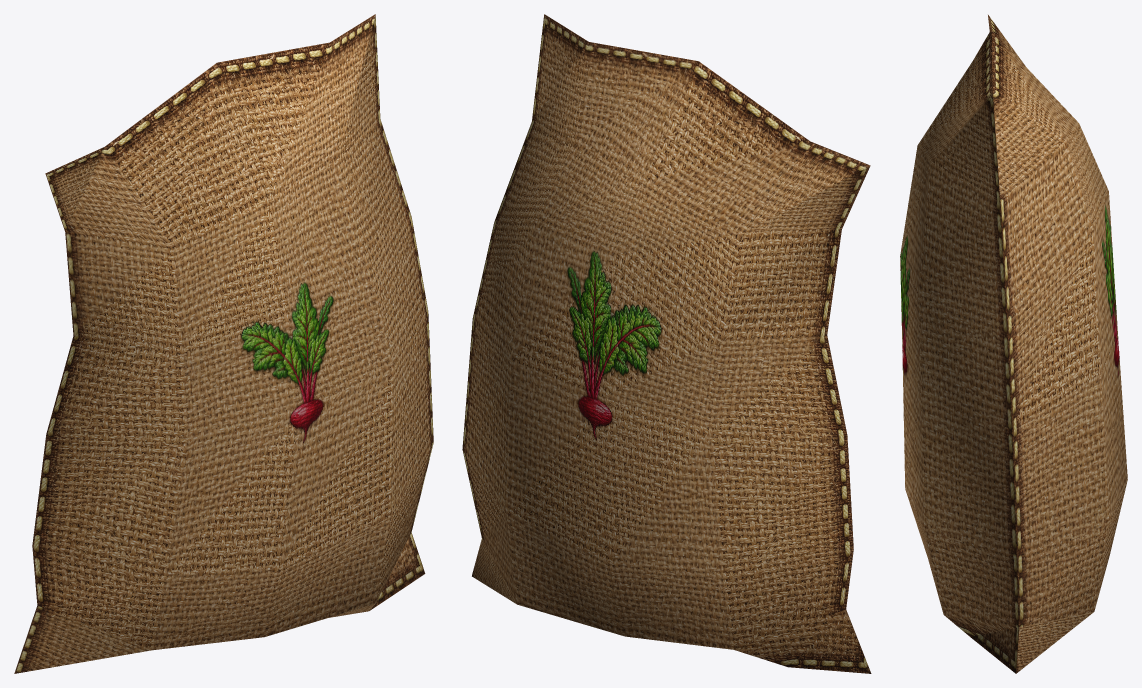
Rendered from mm9_deco_sack01beet.glb.
3 renders of one model, left to right at view 1: azimuth 30°, elevation 25°; view 2: azimuth 150°, elevation 25°; view 3: azimuth 270°, elevation 25°, orthographic. The views are drawn at different scales.
Visible parts, largest first — view 1: Sack01beet; view 2: Sack01beet; view 3: Sack01beet.
Boxes of the visible parts, x1,y1,x2,y2 form: Sack01beet: [14, 14, 433, 673]; Sack01beet: [462, 14, 871, 673]; Sack01beet: [900, 15, 1127, 673].
Bounding box in the file's own units: 0.743 × 0.9878 × 0.3704.
1 material, 1 textured.
